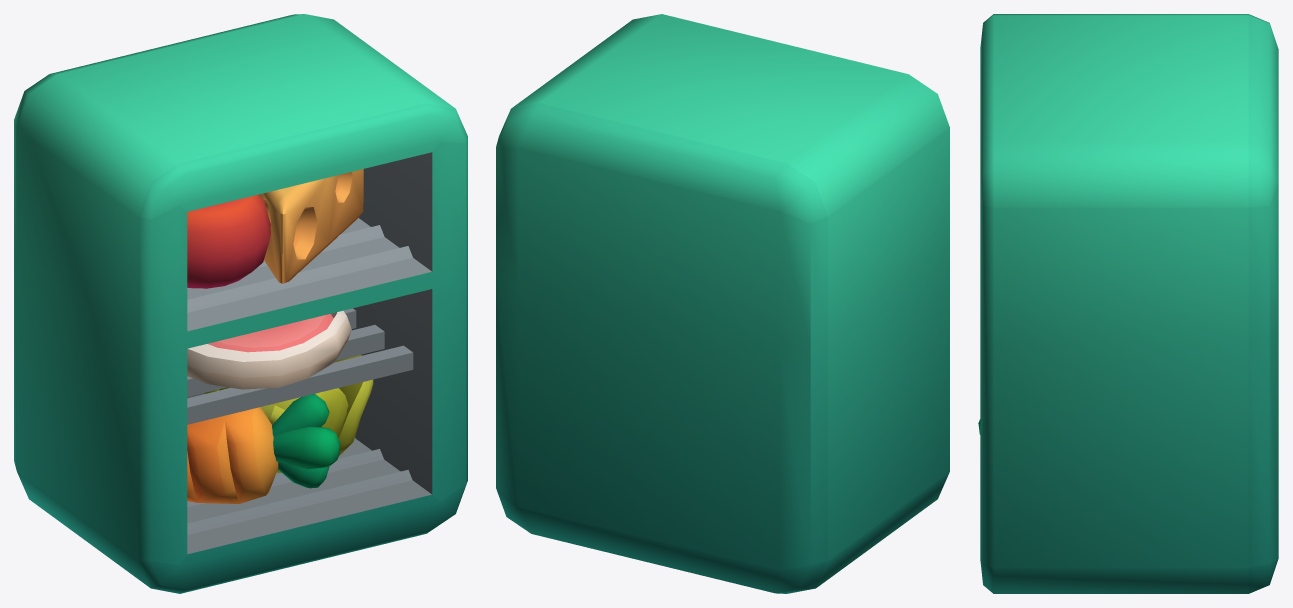
File: fridge_A_decorated.obj
The picture shows the model from 3 angles, left to right: view 1: azimuth 30°, elevation 25°; view 2: azimuth 150°, elevation 25°; view 3: azimuth 270°, elevation 25°; orthographic projection. The views are drawn at different scales.
Parts seen in each view (by area): view 1: fridge_A_decorated_Cube.106; view 2: fridge_A_decorated_Cube.106; view 3: fridge_A_decorated_Cube.106.
Part boxes in pixels (<box>): fridge_A_decorated_Cube.106: <box>14,14,467,593</box>; fridge_A_decorated_Cube.106: <box>496,14,949,593</box>; fridge_A_decorated_Cube.106: <box>978,14,1278,593</box>.
Bounding box in the file's own units: 2 × 2.5 × 1.51.
Materials: 1 (1 with a texture image).
